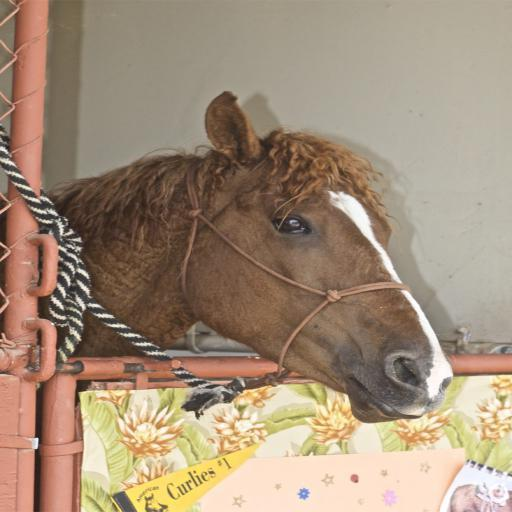horse: (0, 94, 458, 426)
